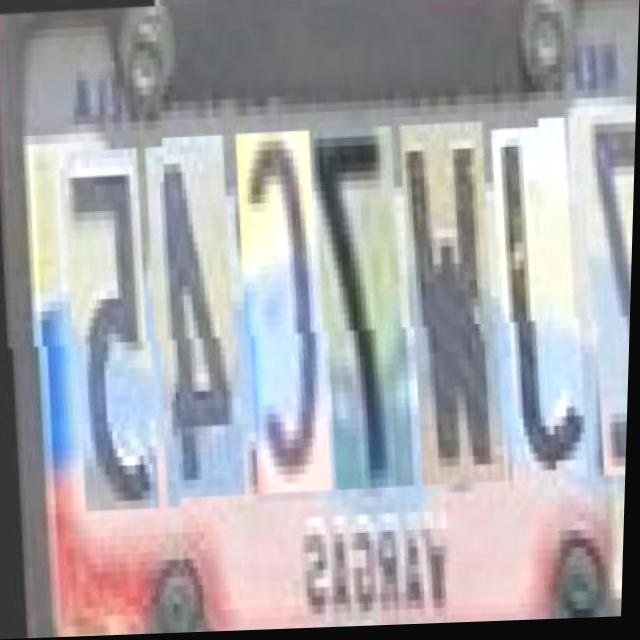4: (134, 134, 244, 500)
5: (53, 138, 157, 503)
7: (303, 128, 412, 493)
c: (226, 131, 330, 496)
j: (481, 129, 586, 494)
w: (390, 124, 503, 490)
z: (572, 127, 637, 491)
